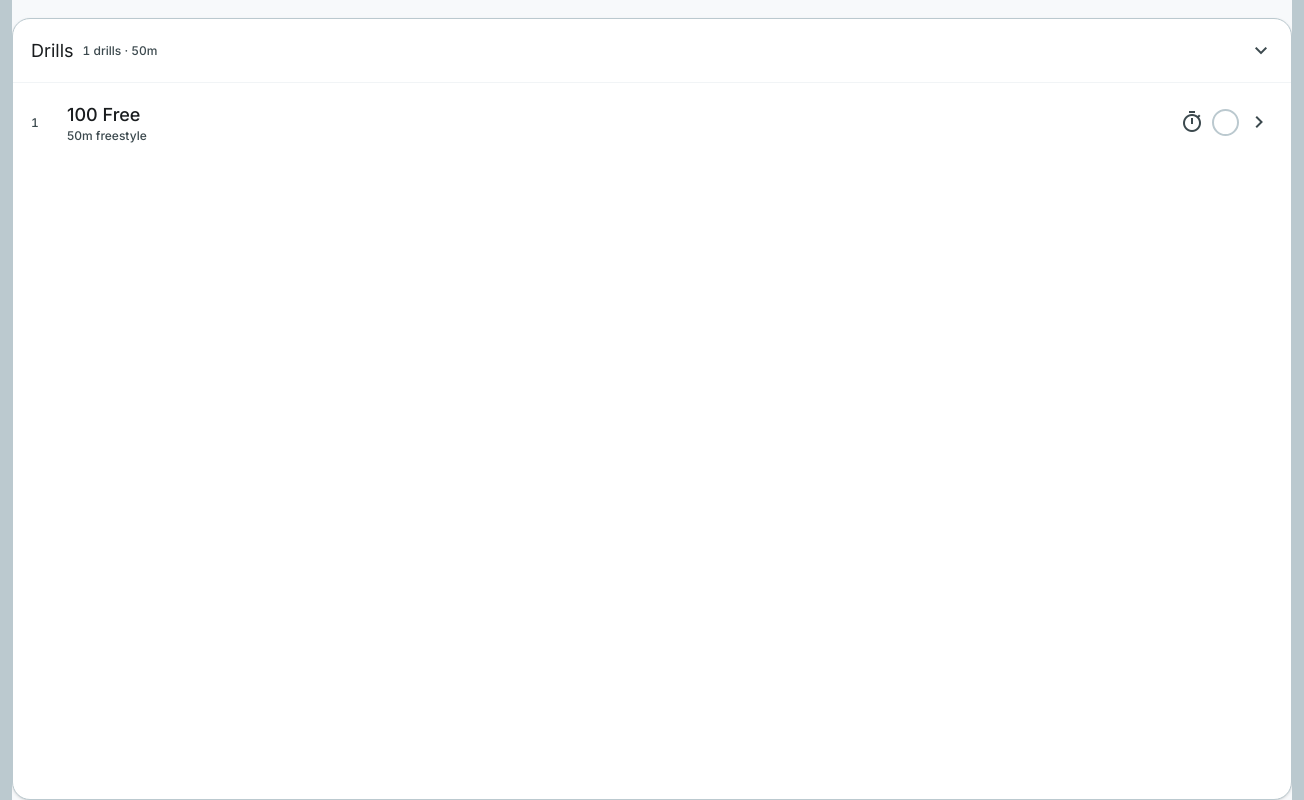
Test: DrillsSection grouping › explains an empty panel when a single drill is opened
What coordinates should you click on to do the following:
click the button titled "Show details"
I would click on:
 (1260, 122)
Its box is 1246,109 -> 1273,136.
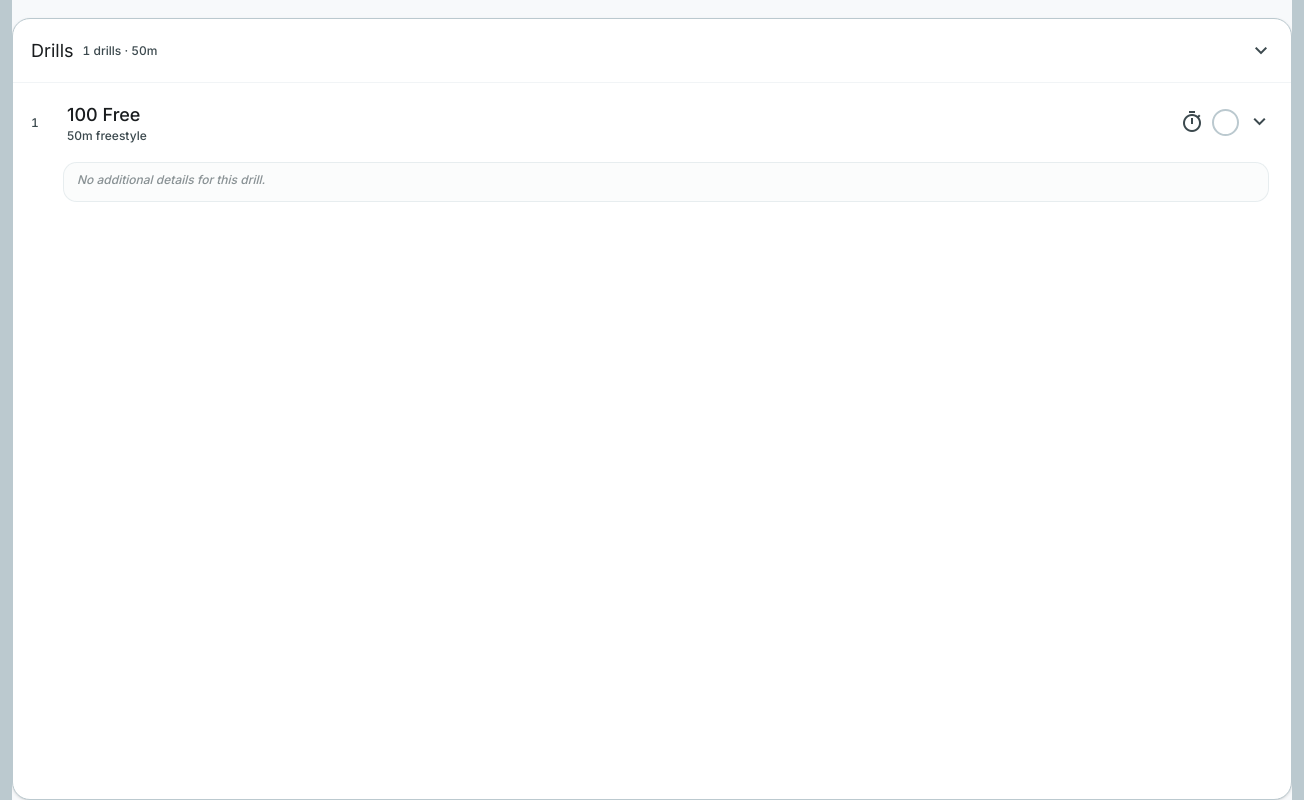
Result: the text "No additional details for this drill." is shown at 77,172 -> 265,187
